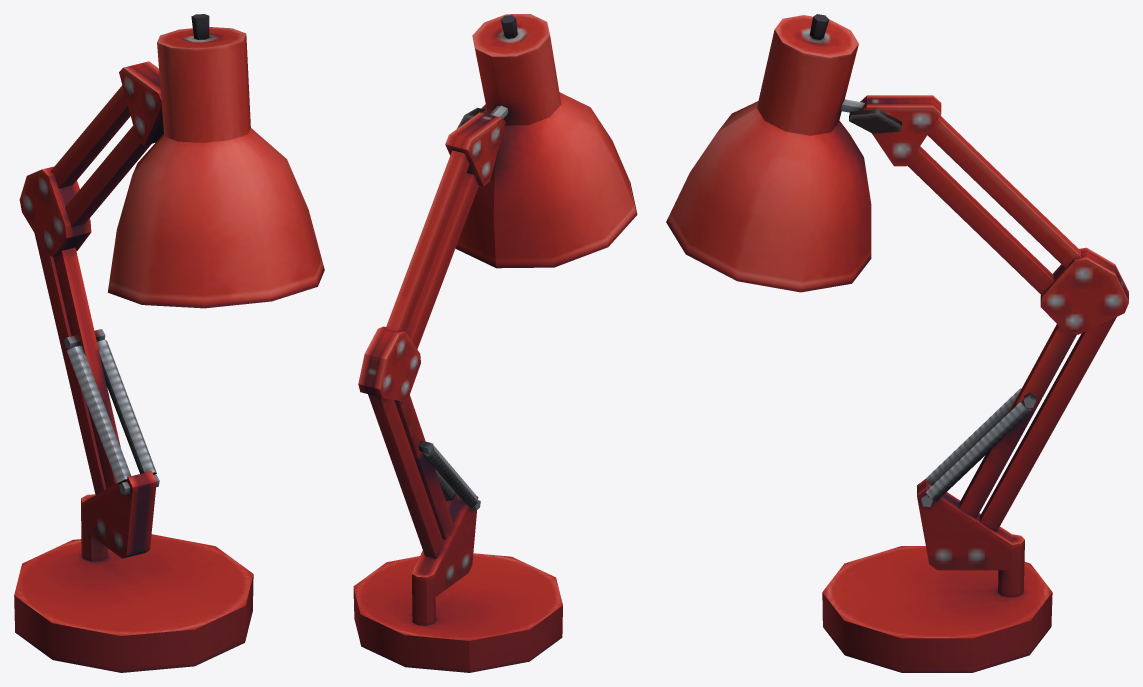
The model's file is lampara_textura.fbx.
The picture shows the model from 3 angles, left to right: view 1: azimuth 30°, elevation 25°; view 2: azimuth 150°, elevation 25°; view 3: azimuth 270°, elevation 25°; orthographic projection. The views are drawn at different scales.
Visible parts, largest first — view 1: s4studio_mesh_1; view 2: s4studio_mesh_1; view 3: s4studio_mesh_1.
Boxes of the visible parts, left/top/right/bottom form: s4studio_mesh_1: left=14, top=14, right=324, bottom=672; s4studio_mesh_1: left=353, top=14, right=637, bottom=672; s4studio_mesh_1: left=666, top=14, right=1128, bottom=672.
Size of the model in its own units: 22.03 by 68 by 46.58.
1 material, 1 textured.
